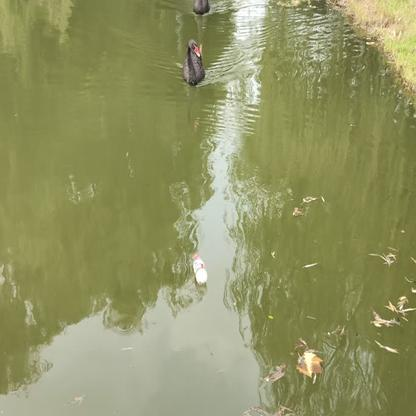plastic bottle: (192, 253, 208, 286)
